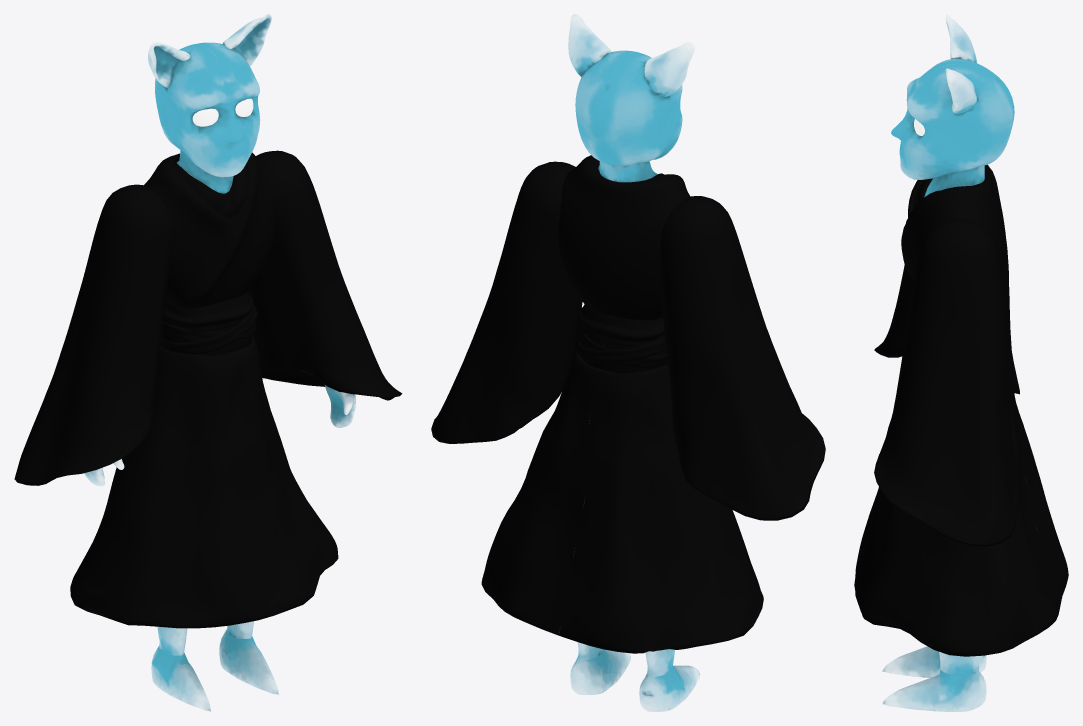
Rendered from seishin_colored.fbx.
3 renders of one model, left to right at view 1: azimuth 30°, elevation 25°; view 2: azimuth 150°, elevation 25°; view 3: azimuth 270°, elevation 25°, orthographic. The views are drawn at different scales.
Parts seen in each view (by area): view 1: large_pants0, sleeve_right2, sleeve_right3, Extract4, head_without_mouth_low1:Group25896, test_chara_V2_test_chara_left_leg11, test_chara_V2_test_chara_left_leg10, Extract13, first_form_2, PM3D_Sphere3D_3, Extract20, PM3D_Sphere3D_4 (+3 smaller); view 2: large_pants0, sleeve_right2, sleeve_right3, Extract4, head_without_mouth_low1:Group25896, test_chara_V2_test_chara_left_leg11, test_chara_V2_test_chara_left_leg10, Extract13, PM3D_Sphere3D_4, PM3D_Sphere3D_3, Extract19, neck0 (+2 smaller); view 3: sleeve_right3, large_pants0, head_without_mouth_low1:Group25896, Extract4, test_chara_V2_test_chara_left_leg10, sleeve_right2, test_chara_V2_test_chara_left_leg11, PM3D_Sphere3D_3, neck0, PM3D_Sphere3D_4.
Boxes of the visible parts, x1=… form: large_pants0: x1=70, y1=333, x2=338, y2=628; sleeve_right2: x1=14, y1=184, x2=172, y2=485; sleeve_right3: x1=247, y1=150, x2=402, y2=400; Extract4: x1=144, y1=152, x2=273, y2=309; head_without_mouth_low1:Group25896: x1=155, y1=42, x2=260, y2=177; test_chara_V2_test_chara_left_leg11: x1=151, y1=626, x2=210, y2=711; test_chara_V2_test_chara_left_leg10: x1=219, y1=621, x2=278, y2=695; Extract13: x1=163, y1=291, x2=253, y2=332; first_form_2: x1=176, y1=160, x2=249, y2=218; PM3D_Sphere3D_3: x1=222, y1=14, x2=271, y2=65; Extract20: x1=161, y1=304, x2=257, y2=354; PM3D_Sphere3D_4: x1=148, y1=41, x2=190, y2=87; large_pants0: x1=481, y1=350, x2=763, y2=653; sleeve_right2: x1=660, y1=196, x2=825, y2=520; sleeve_right3: x1=431, y1=161, x2=582, y2=443; Extract4: x1=558, y1=155, x2=690, y2=320; head_without_mouth_low1:Group25896: x1=575, y1=50, x2=682, y2=165; test_chara_V2_test_chara_left_leg11: x1=639, y1=649, x2=699, y2=711; test_chara_V2_test_chara_left_leg10: x1=570, y1=642, x2=630, y2=694; Extract13: x1=578, y1=304, x2=665, y2=346; PM3D_Sphere3D_4: x1=644, y1=42, x2=694, y2=96; PM3D_Sphere3D_3: x1=568, y1=14, x2=611, y2=76; Extract19: x1=574, y1=335, x2=666, y2=362; neck0: x1=598, y1=161, x2=657, y2=182; sleeve_right3: x1=874, y1=218, x2=1019, y2=546; large_pants0: x1=854, y1=356, x2=1068, y2=656; head_without_mouth_low1:Group25896: x1=891, y1=59, x2=1014, y2=179; Extract4: x1=901, y1=166, x2=1005, y2=280; test_chara_V2_test_chara_left_leg10: x1=882, y1=651, x2=986, y2=711; sleeve_right2: x1=874, y1=164, x2=1019, y2=394; test_chara_V2_test_chara_left_leg11: x1=882, y1=646, x2=986, y2=677; PM3D_Sphere3D_3: x1=945, y1=68, x2=976, y2=113; neck0: x1=924, y1=165, x2=984, y2=197; PM3D_Sphere3D_4: x1=945, y1=14, x2=976, y2=62.
Size of the model in its own units: 5.33 by 9.16 by 2.75.
